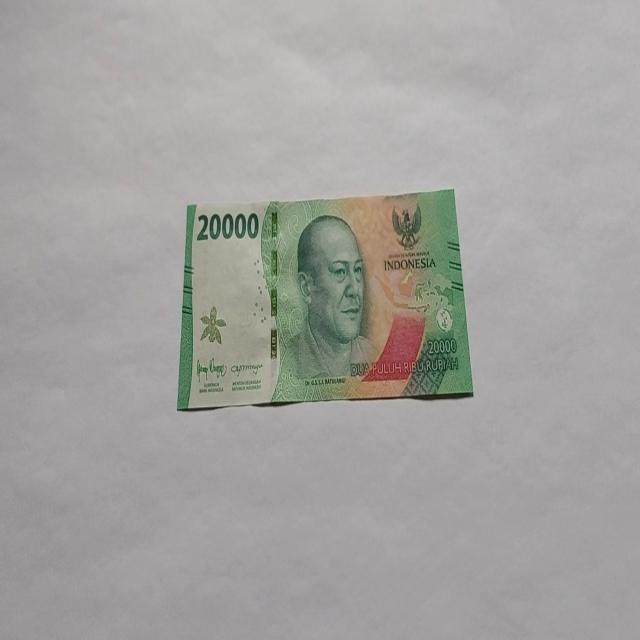dua puluh ribu rupiah: (176, 188, 474, 412)
